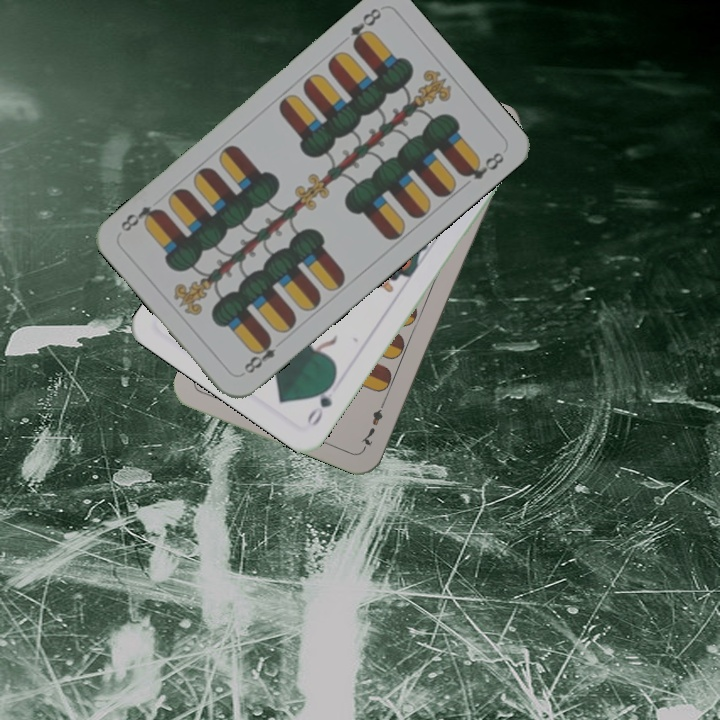E7: (357, 395, 389, 451)
E8: (346, 4, 384, 51), (240, 333, 278, 376)
GO: (302, 375, 338, 429)
